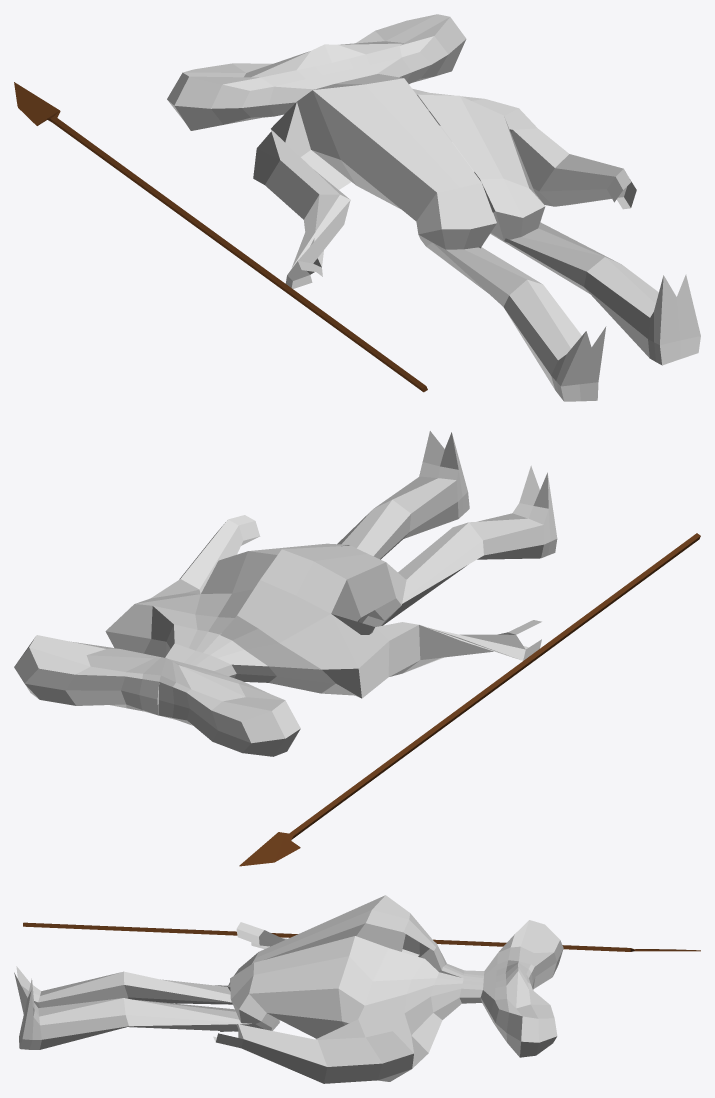
The model's file is Spearman3d.obj.
The picture shows the model from 3 angles, top to bottom: view 1: azimuth 30°, elevation 25°; view 2: azimuth 150°, elevation 25°; view 3: azimuth 270°, elevation 25°; orthographic projection. The views are drawn at different scales.
Parts seen in each view (by area): view 1: Cube; view 2: Cube; view 3: Cube.
Part boxes in pixels (left/top/right/bottom): Cube: left=14, top=14, right=700, bottom=401; Cube: left=14, top=431, right=700, bottom=866; Cube: left=14, top=895, right=700, bottom=1083.
Size of the model in its own units: 0.8565 by 0.3465 by 1.8.
